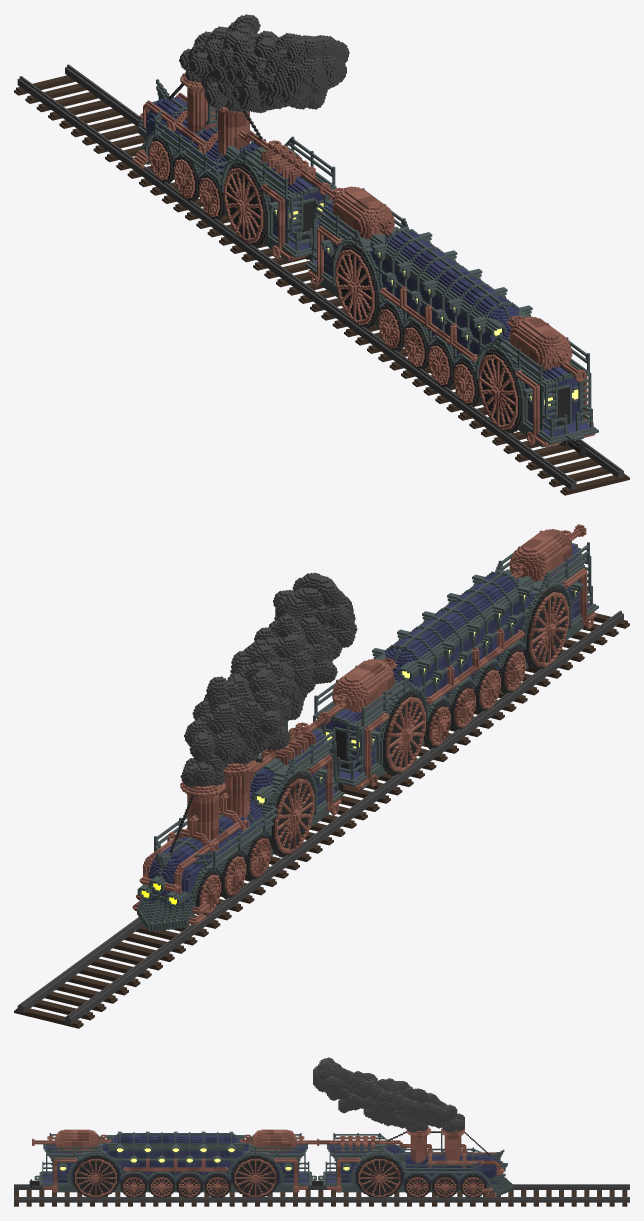
The model's file is steampunk_train_-_voxel_model.glb.
3 renders of one model, top to bottom at view 1: azimuth 30°, elevation 25°; view 2: azimuth 150°, elevation 25°; view 3: azimuth 270°, elevation 25°, orthographic. The views are drawn at different scales.
Parts seen in each view (by area): view 1: Object_4, Object_7, Object_3, Object_6, Object_2, Object_5; view 2: Object_3, Object_2, Object_7, Object_4, Object_5, Object_6; view 3: Object_3, Object_4, Object_7, Object_6, Object_2, Object_5.
Boxes of the visible parts, box(x1,y1,x2,y2) form: Object_4: box(423, 265, 598, 456); Object_7: box(14, 64, 629, 495); Object_3: box(305, 186, 480, 370); Object_6: box(194, 106, 336, 260); Object_2: box(179, 14, 349, 113); Object_5: box(132, 72, 253, 214); Object_3: box(313, 607, 480, 789); Object_2: box(180, 572, 357, 787); Object_7: box(14, 610, 629, 1028); Object_4: box(424, 524, 598, 712); Object_5: box(132, 762, 265, 931); Object_6: box(226, 711, 344, 879); Object_3: box(175, 1129, 320, 1197); Object_4: box(29, 1129, 174, 1197); Object_7: box(14, 1184, 629, 1206); Object_6: box(313, 1127, 429, 1197); Object_2: box(313, 1057, 464, 1132); Object_5: box(417, 1128, 514, 1197).
Bounding box in the file's own units: 5.18 × 14.99 × 61.45.
Materials: 1 (1 with a texture image).
